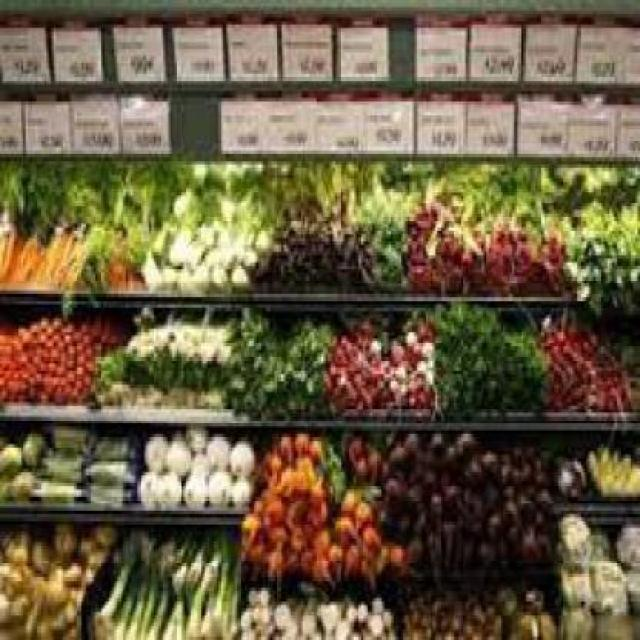BIODEGRADABLE: (560, 161, 638, 308), (224, 305, 328, 409), (435, 304, 542, 405), (488, 158, 566, 287), (331, 311, 435, 406), (407, 165, 488, 286), (248, 210, 370, 284), (542, 318, 638, 409), (0, 311, 91, 398), (58, 161, 107, 308), (263, 157, 372, 220), (358, 157, 408, 291), (123, 300, 235, 357), (99, 157, 147, 283), (37, 157, 86, 280), (93, 338, 229, 382), (13, 157, 61, 280), (92, 528, 134, 637), (92, 374, 231, 406), (400, 592, 500, 636), (134, 161, 188, 234), (123, 528, 154, 637), (144, 538, 178, 637), (584, 440, 638, 497), (0, 154, 26, 272), (184, 552, 219, 637), (216, 521, 239, 636), (584, 552, 624, 610), (160, 549, 186, 637), (554, 556, 591, 606), (92, 307, 134, 350), (551, 448, 587, 497), (186, 178, 217, 234), (198, 532, 214, 636), (554, 510, 589, 553), (239, 185, 275, 224), (322, 437, 344, 500), (169, 528, 191, 588), (81, 459, 128, 486), (84, 476, 128, 504), (377, 468, 405, 512), (558, 605, 596, 637), (593, 609, 638, 636), (228, 430, 254, 476), (463, 483, 486, 535), (26, 479, 80, 501), (37, 447, 74, 479), (256, 482, 282, 526), (140, 430, 166, 472), (612, 522, 638, 563), (205, 465, 232, 504), (86, 430, 128, 455), (21, 588, 42, 637), (198, 158, 232, 188), (10, 465, 36, 504), (293, 458, 319, 497), (139, 248, 161, 294), (424, 478, 447, 522), (40, 570, 66, 608), (202, 430, 228, 468), (234, 507, 260, 545), (204, 252, 230, 290), (507, 525, 533, 563), (49, 525, 77, 560), (163, 430, 186, 472), (184, 532, 205, 578), (18, 594, 40, 637), (365, 437, 387, 480), (151, 468, 177, 504), (312, 552, 336, 591), (454, 426, 480, 462), (316, 598, 342, 633), (484, 507, 505, 550), (0, 528, 28, 560), (274, 461, 298, 497), (422, 433, 449, 465), (28, 535, 50, 574), (428, 524, 442, 584), (463, 444, 485, 482), (507, 605, 533, 637), (533, 601, 556, 637), (374, 532, 392, 578), (442, 482, 463, 521), (256, 444, 279, 479), (263, 538, 282, 580), (228, 252, 247, 294), (482, 448, 503, 486), (620, 564, 638, 608), (16, 426, 38, 462), (386, 433, 408, 469), (0, 560, 28, 588), (177, 266, 205, 294), (193, 210, 221, 238), (345, 433, 363, 476), (408, 517, 426, 560), (44, 423, 79, 445), (532, 451, 554, 486), (584, 524, 608, 556), (528, 500, 552, 532), (228, 468, 249, 504), (404, 472, 422, 514), (216, 189, 235, 228), (533, 479, 552, 518), (207, 234, 230, 266), (231, 161, 258, 188), (182, 468, 204, 501), (342, 535, 358, 580), (463, 535, 491, 560), (135, 468, 154, 504), (158, 255, 177, 291), (184, 423, 205, 455), (335, 510, 356, 542), (228, 223, 249, 255), (387, 507, 411, 535), (388, 535, 407, 570), (56, 556, 82, 581), (72, 532, 96, 559), (0, 436, 18, 472), (0, 584, 17, 622), (444, 525, 461, 563), (531, 525, 549, 560), (326, 541, 345, 574), (405, 426, 424, 459), (491, 584, 514, 611), (307, 518, 330, 545), (302, 493, 324, 521), (256, 217, 272, 255), (270, 595, 287, 630), (520, 581, 542, 608), (520, 440, 538, 472), (284, 522, 305, 549), (288, 427, 307, 455), (512, 475, 533, 500), (186, 448, 205, 475), (424, 468, 451, 487), (354, 497, 372, 525), (501, 497, 519, 525), (287, 493, 302, 525), (279, 612, 298, 637), (279, 549, 298, 574), (295, 612, 317, 633), (72, 562, 96, 581), (58, 598, 77, 622), (363, 521, 377, 553), (88, 524, 112, 542), (62, 577, 80, 601), (242, 235, 258, 262), (32, 612, 51, 633), (248, 538, 266, 560), (338, 489, 356, 511), (170, 238, 188, 259), (256, 618, 275, 637), (307, 430, 321, 455), (419, 332, 433, 357), (193, 255, 207, 280), (238, 618, 256, 637), (368, 609, 382, 633), (330, 609, 344, 633), (338, 595, 352, 619), (298, 591, 314, 612), (300, 545, 312, 573), (188, 231, 202, 255), (277, 430, 289, 455), (361, 556, 373, 581), (505, 444, 517, 468), (84, 546, 102, 560), (244, 584, 256, 605), (253, 606, 270, 620), (0, 475, 12, 494), (172, 217, 188, 231), (370, 591, 382, 609), (400, 322, 412, 340), (356, 598, 366, 619), (410, 338, 419, 357), (238, 606, 247, 620), (258, 584, 268, 594), (382, 608, 389, 622), (349, 629, 358, 637)
